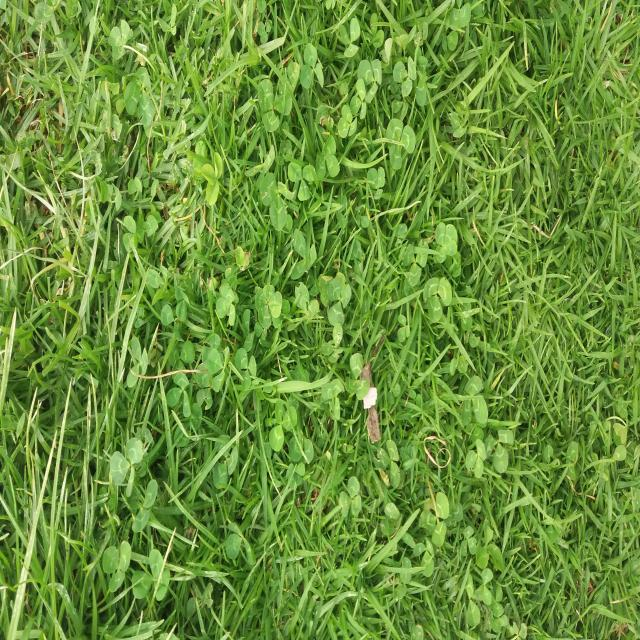Four Leaf Clover: (255, 284, 283, 329), (434, 222, 458, 264)
